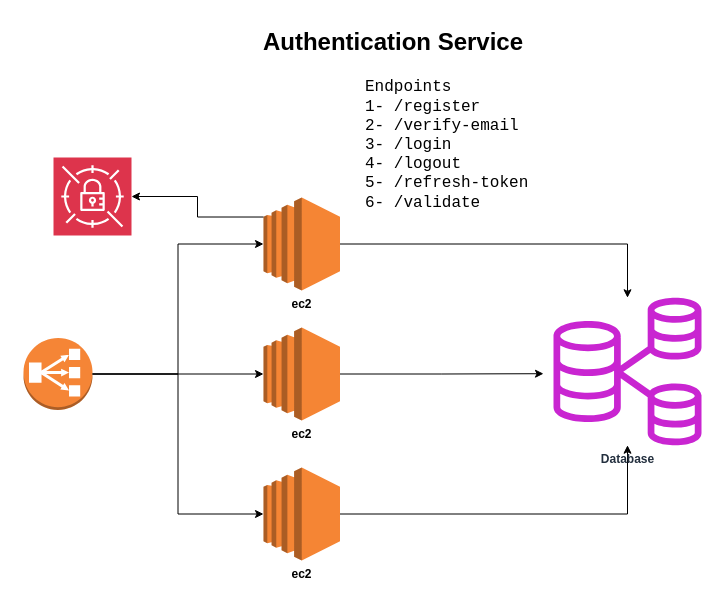
This 719x598 diagram has some shape labels left out. The centre of each missing label's shape, as x and y in pixels:
"AWS Secret Manager" goes at point (92, 196).
"Load balancer" goes at point (57, 373).
